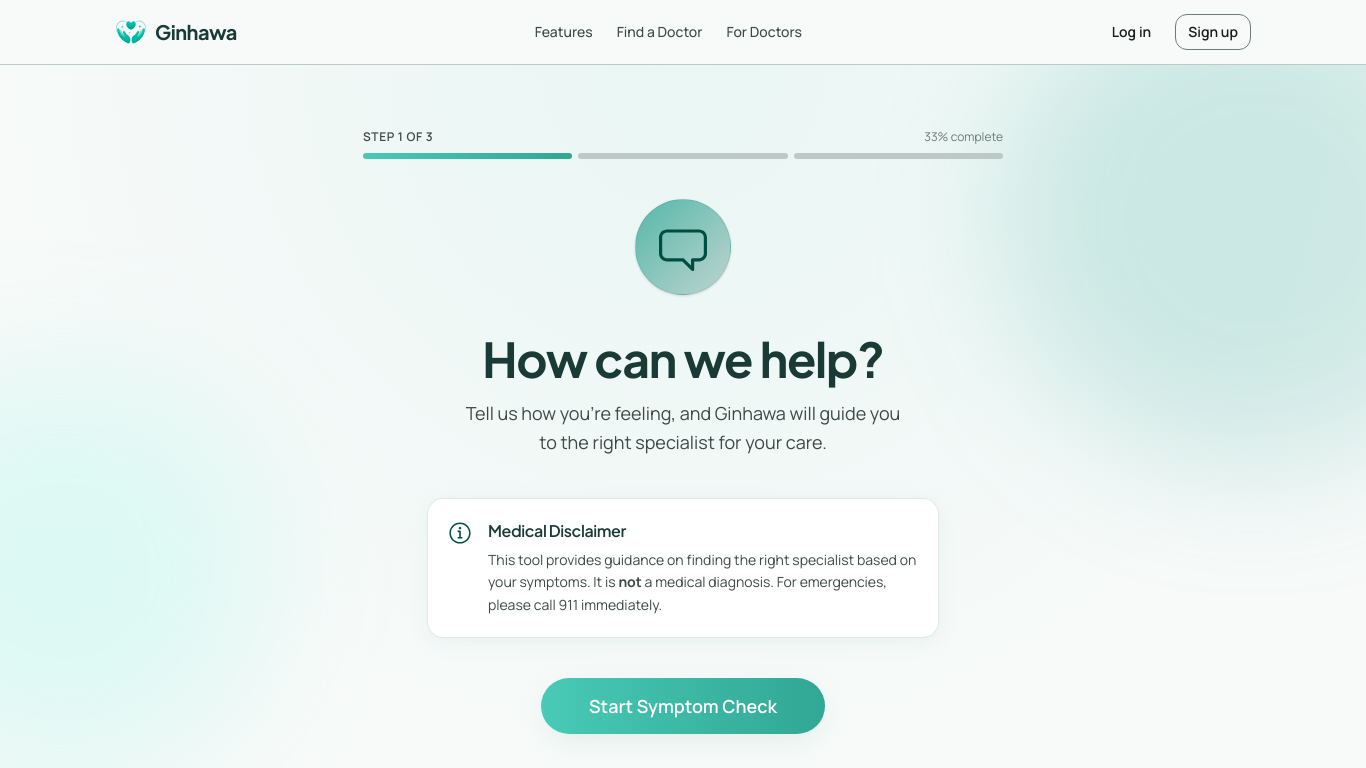
Test case: RecommendationsPage › fetches matches and renders ranked doctor cards
Click the button "Start Symptom Check". click: [683, 706]
box: [541,678,825,734]
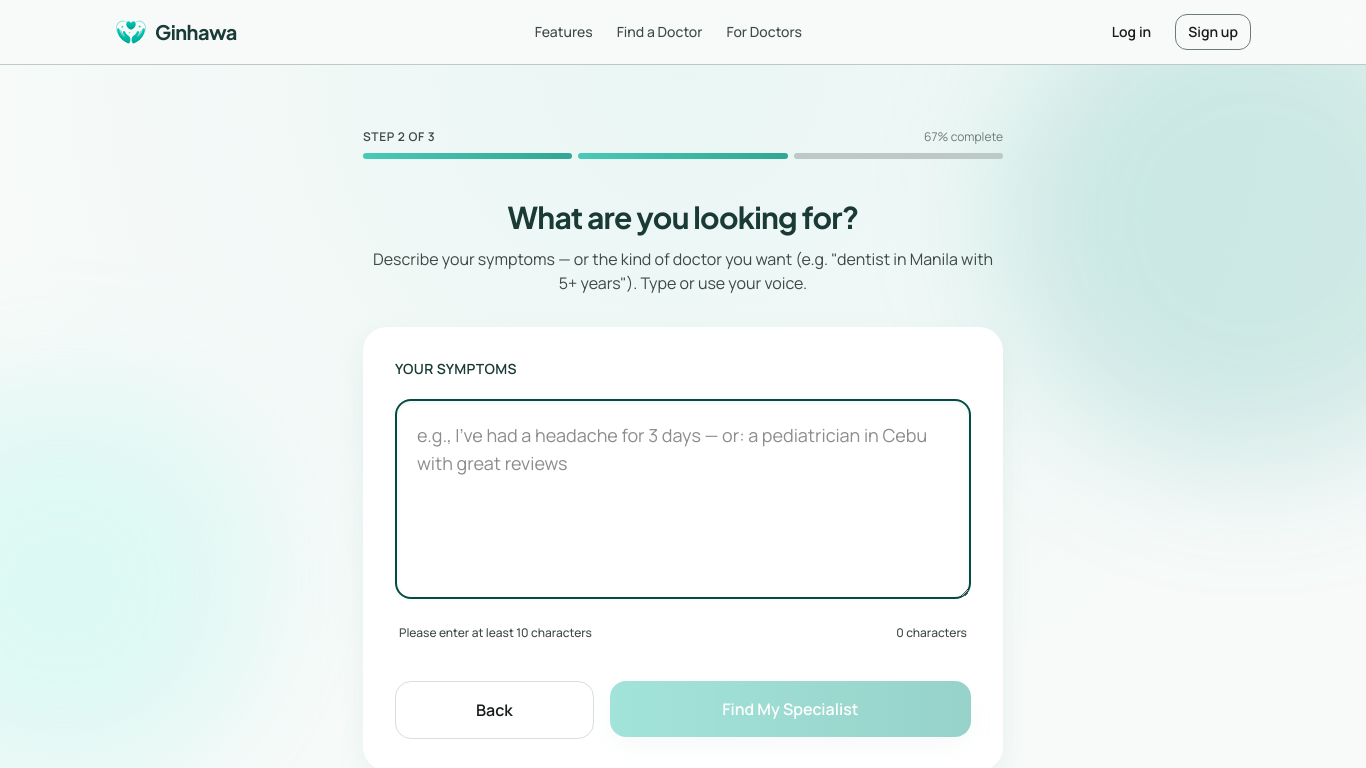
Type "dentist in Manila with 5 years" into the text box. click: [683, 499]
box: [395,399,971,599]
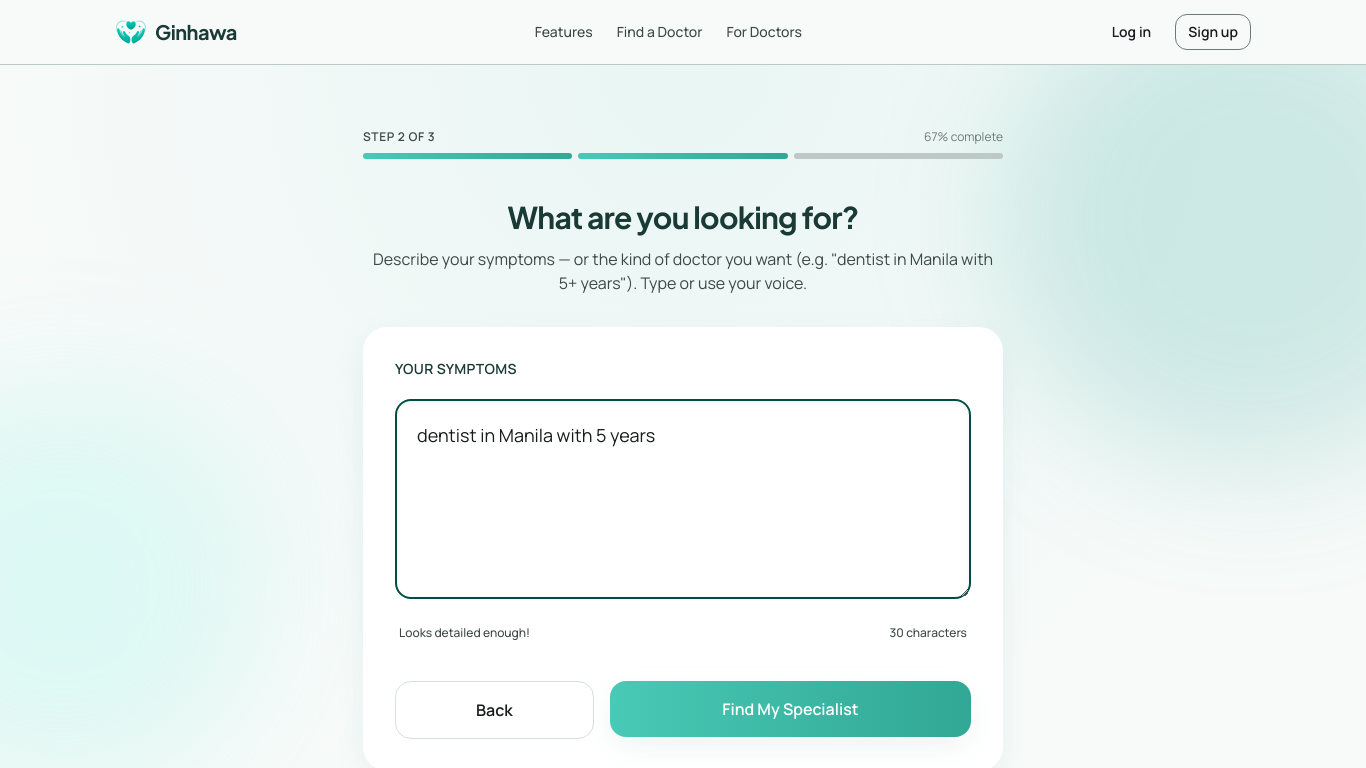
Click the button "Find My Specialist". click: [790, 709]
box: [610,681,971,737]
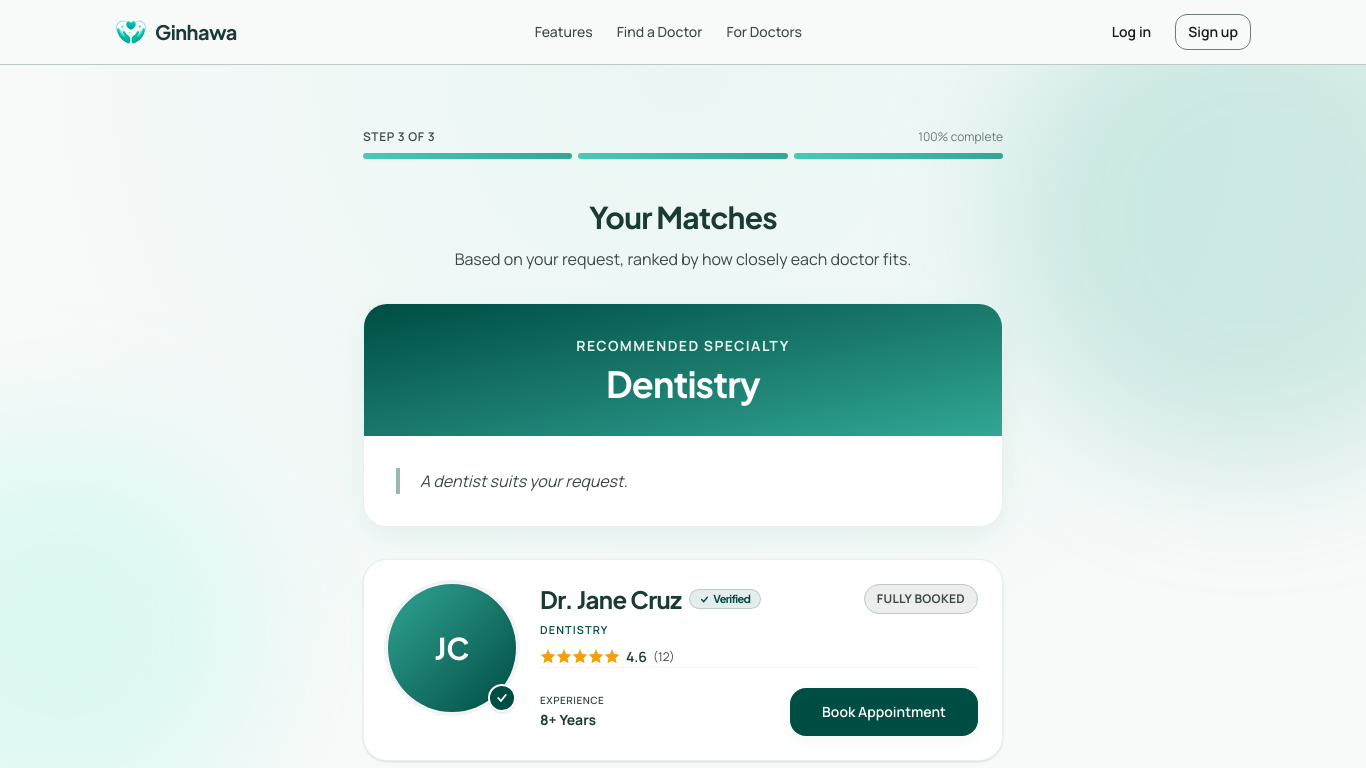
Check: the heading "Dr. Jane Cruz Verified" is shown, box [540,584,761,614]
